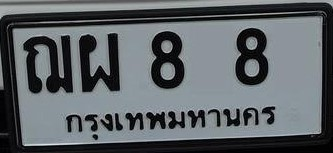txt09: (21, 34, 76, 94)
txt23: (76, 32, 122, 94)
